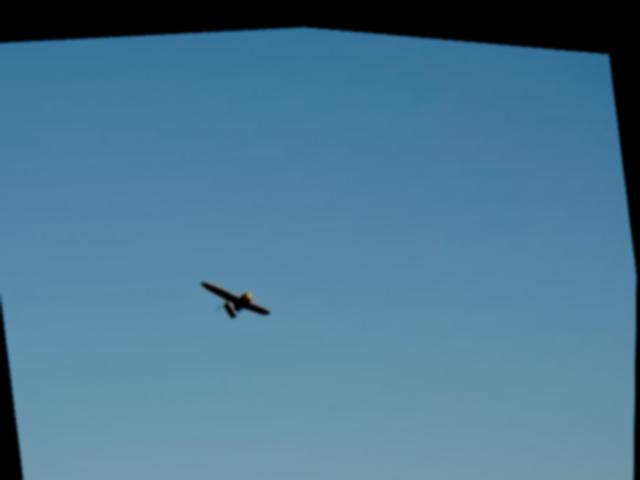iha: (201, 269, 277, 325)
